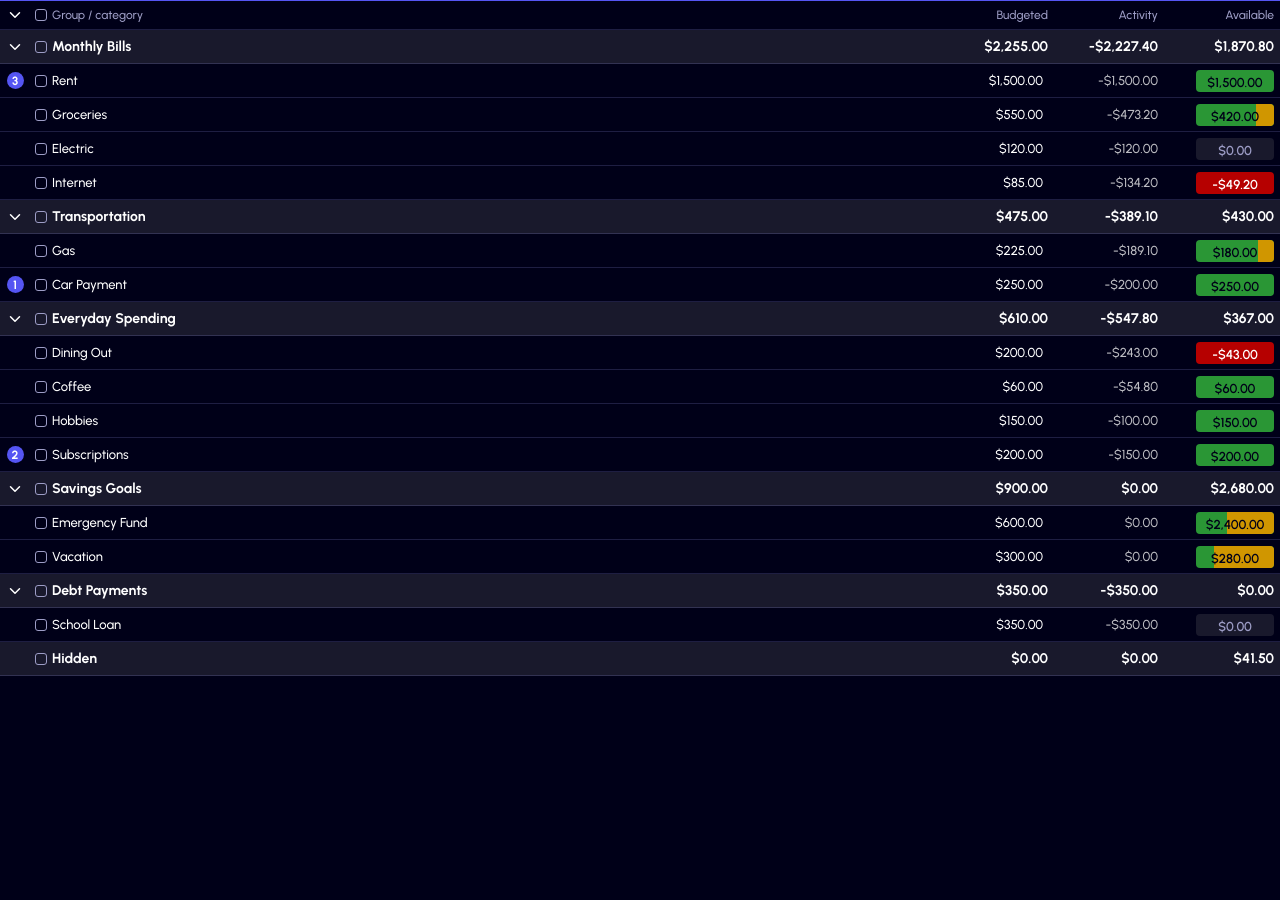
Scenario: BudgetTable › select all checks every category
The image size is (1280, 900).
What coordinates should you click on to do the following:
click the checkbox named "Select all categories"
I would click on:
 (41, 15)
Its box is [35, 9, 47, 21].
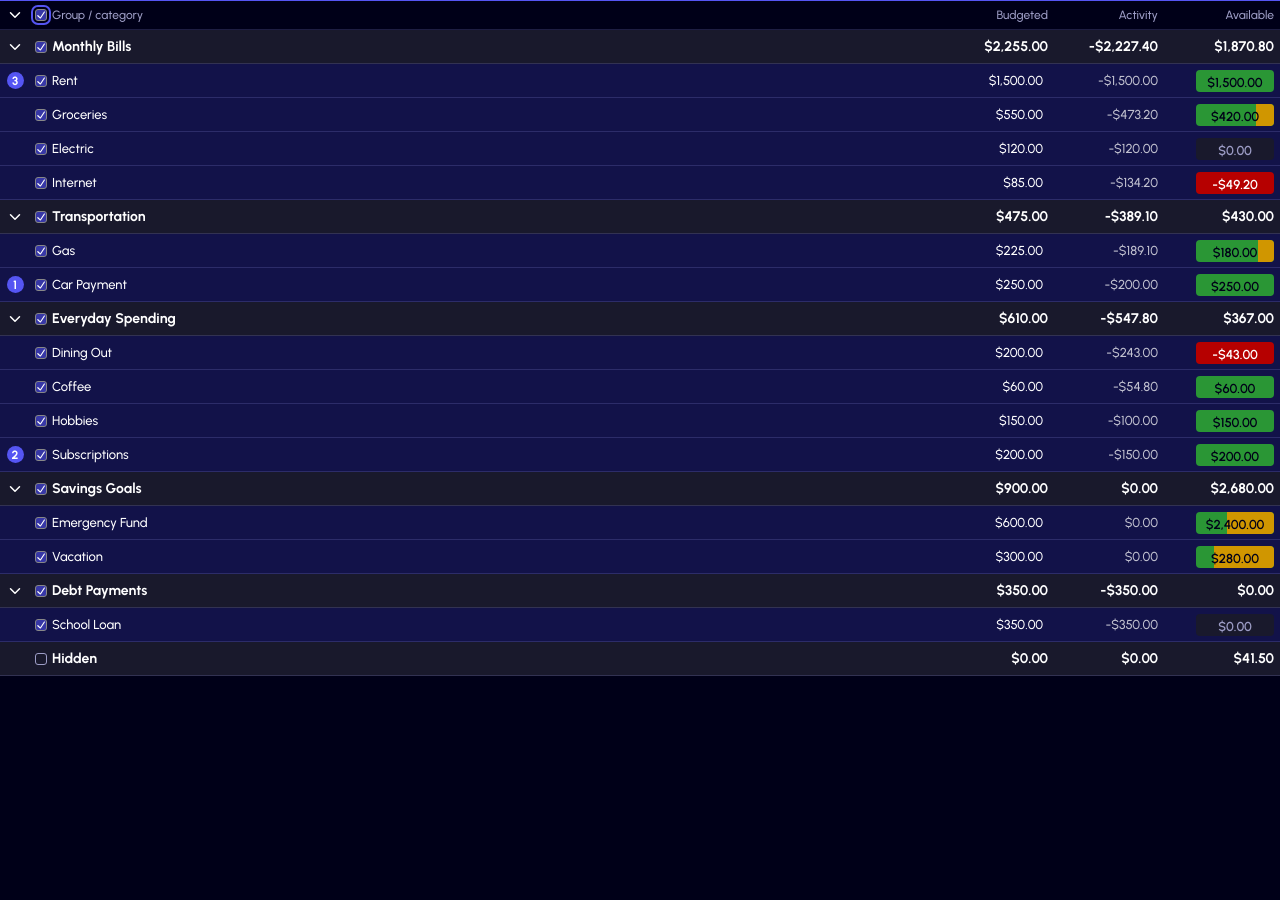
Now the checkbox named "Select Rent" is checked, box [35, 74, 47, 86]
Now the checkbox named "Select Gas" is checked, box [35, 244, 47, 256]
